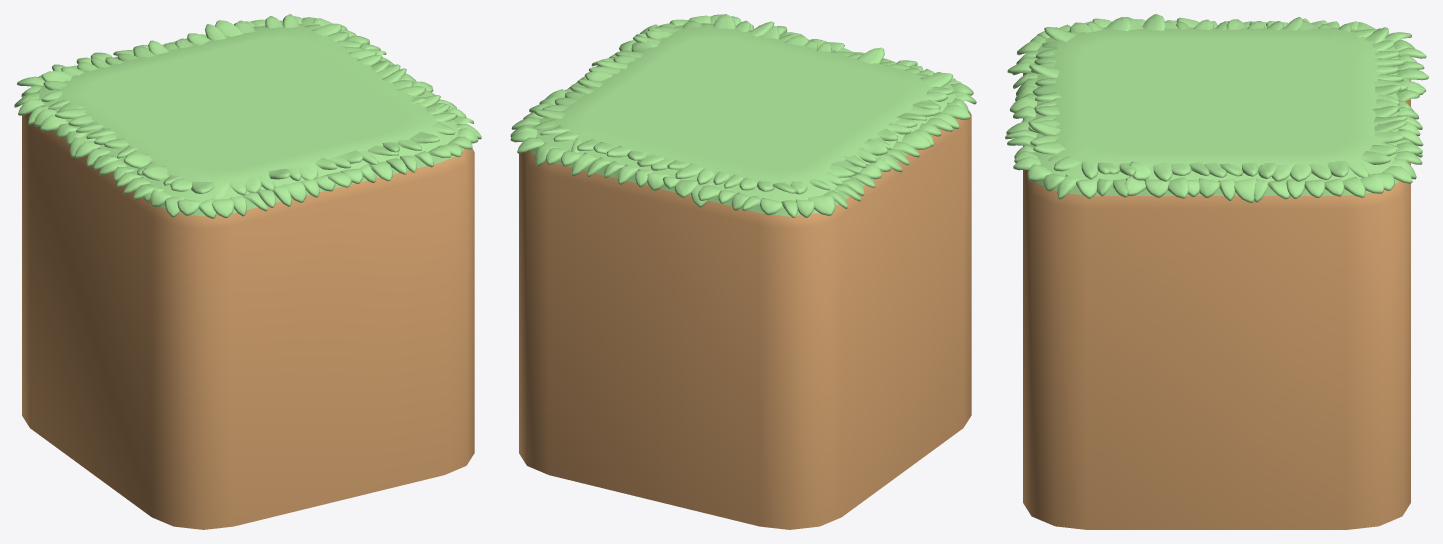
File: Cliffs_2x2.fbx
The picture shows the model from 3 angles, left to right: view 1: azimuth 30°, elevation 25°; view 2: azimuth 150°, elevation 25°; view 3: azimuth 270°, elevation 25°; orthographic projection. The views are drawn at different scales.
Parts seen in each view (by area): view 1: 2x2_Cliff, 2x2_Blades; view 2: 2x2_Cliff, 2x2_Blades; view 3: 2x2_Cliff, 2x2_Blades.
Boxes of the visible parts, <box> form: 2x2_Cliff: <box>22,23,474,529</box>; 2x2_Blades: <box>14,14,481,218</box>; 2x2_Cliff: <box>519,23,971,529</box>; 2x2_Blades: <box>510,14,976,217</box>; 2x2_Cliff: <box>1023,27,1410,529</box>; 2x2_Blades: <box>1005,14,1428,202</box>.
Bounding box in the file's own units: 215 × 204 × 219.
